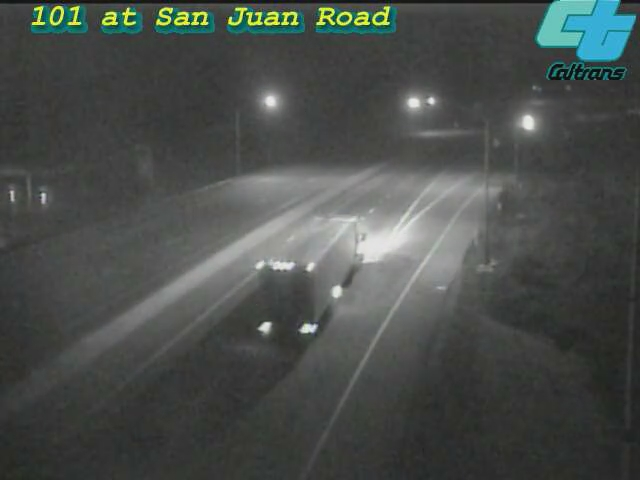vehicle: (283, 219, 363, 299), (500, 99, 550, 149)
